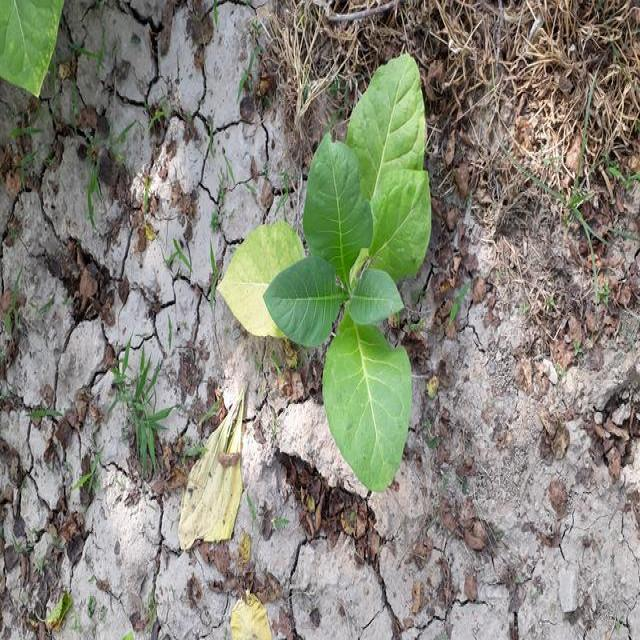crop: (215, 49, 440, 498)
